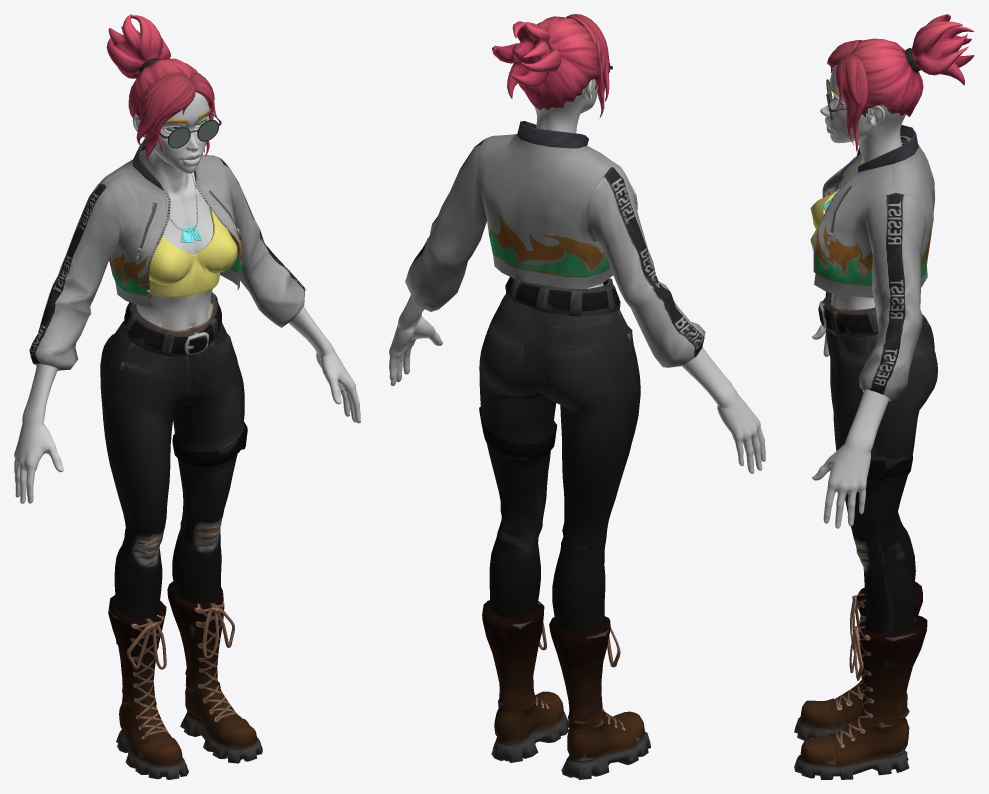
File: Character 2.fbx
3 renders of one model, left to right at view 1: azimuth 30°, elevation 25°; view 2: azimuth 150°, elevation 25°; view 3: azimuth 270°, elevation 25°, orthographic. The views are drawn at different scales.
Parts seen in each view (by area): view 1: pants jean.002, jacket 3.002, shoes 10.002, body.008, w hair 16.002, underwear.002, head.004, body.009, Glasses.002; view 2: pants jean.002, jacket 3.002, shoes 10.002, w hair 16.002, body.008, head.004; view 3: jacket 3.002, pants jean.002, shoes 10.002, w hair 16.002, body.008, head.004, body.009, underwear.002.
Part boxes in pixels (x1,y1,x2,y2): pants jean.002: (100, 292, 247, 648); jacket 3.002: (29, 138, 305, 370); shoes 10.002: (108, 581, 262, 779); body.008: (14, 172, 360, 503); w hair 16.002: (106, 14, 217, 164); underwear.002: (149, 207, 237, 297); head.004: (132, 92, 210, 188); body.009: (136, 226, 213, 328); Glasses.002: (156, 114, 221, 148); pants jean.002: (479, 277, 640, 669); jacket 3.002: (405, 121, 705, 367); shoes 10.002: (482, 600, 650, 779); w hair 16.002: (492, 14, 609, 118); body.008: (389, 213, 765, 473); head.004: (534, 79, 598, 133); jacket 3.002: (813, 125, 935, 401); pants jean.002: (818, 292, 937, 668); shoes 10.002: (794, 581, 927, 779); w hair 16.002: (827, 14, 974, 151); body.008: (812, 163, 889, 528); head.004: (820, 64, 905, 163); body.009: (831, 293, 875, 309); underwear.002: (810, 142, 902, 250).
Bounding box in the file's own units: 96.47 × 194 × 43.19.
